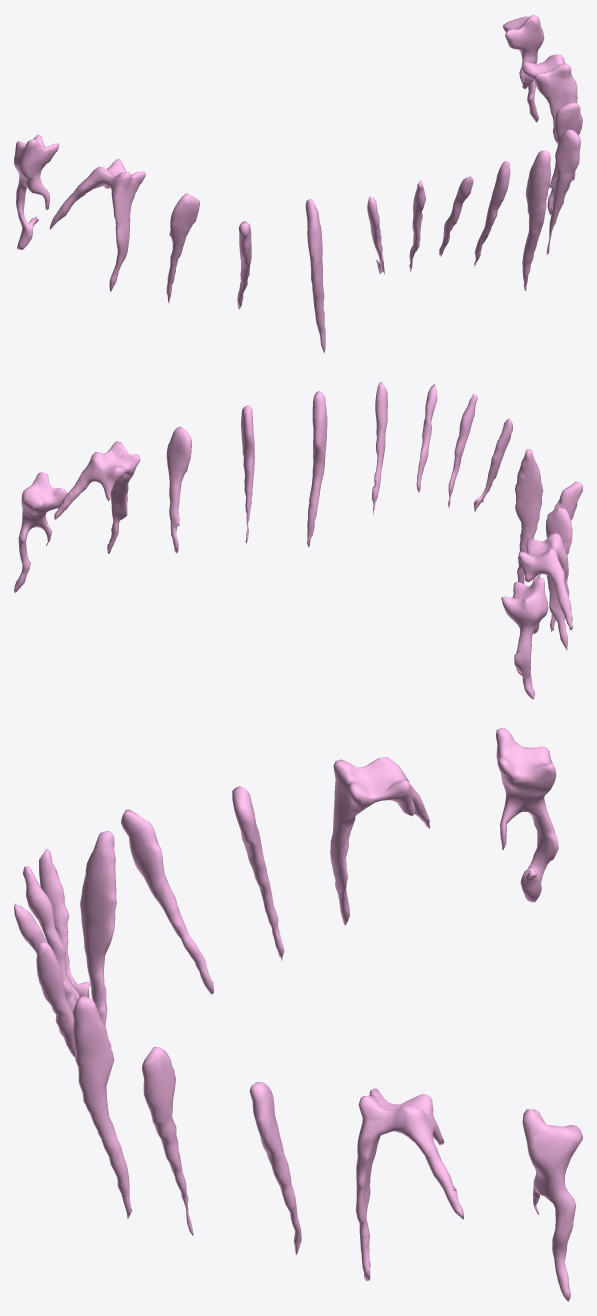
Rendered from roots_roots_L.glb.
3 views of the same model, one above another, from view 1: azimuth 30°, elevation 25°; view 2: azimuth 150°, elevation 25°; view 3: azimuth 270°, elevation 25° (orthographic). The views are drawn at different scales.
Visible parts, largest first — view 1: CT SCAN _ LOWER ROOTS.002; view 2: CT SCAN _ LOWER ROOTS.002; view 3: CT SCAN _ LOWER ROOTS.002.
Part boxes in pixels (x1,y1,x2,y2): CT SCAN _ LOWER ROOTS.002: (14,14,582,352); CT SCAN _ LOWER ROOTS.002: (14,382,582,699); CT SCAN _ LOWER ROOTS.002: (14,728,582,1301).
Size of the model in its own units: 61.25 by 18.83 by 37.74.
